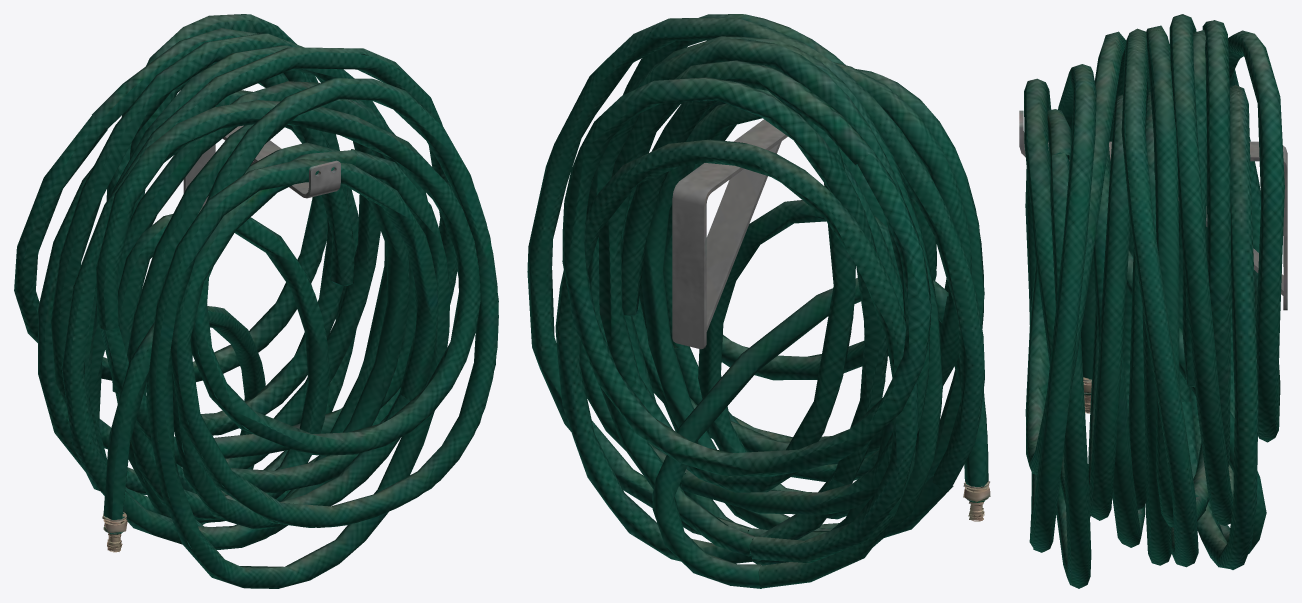
The model's file is garden_hose_wall_mounted_01.glb.
The picture shows the model from 3 angles, left to right: view 1: azimuth 30°, elevation 25°; view 2: azimuth 150°, elevation 25°; view 3: azimuth 270°, elevation 25°; orthographic projection. The views are drawn at different scales.
Parts seen in each view (by area): view 1: garden_hose, garden_hose_wall_bracket; view 2: garden_hose, garden_hose_wall_bracket; view 3: garden_hose, garden_hose_wall_bracket.
Part boxes in pixels (bbox=[...]): garden_hose: bbox=[14, 14, 498, 588]; garden_hose_wall_bracket: bbox=[183, 125, 340, 206]; garden_hose: bbox=[527, 14, 990, 588]; garden_hose_wall_bracket: bbox=[672, 119, 787, 349]; garden_hose: bbox=[1024, 14, 1284, 588]; garden_hose_wall_bracket: bbox=[1019, 110, 1287, 310].
Size of the model in its own units: 0.4685 by 0.5559 by 0.2503.
1 material, 1 textured.
